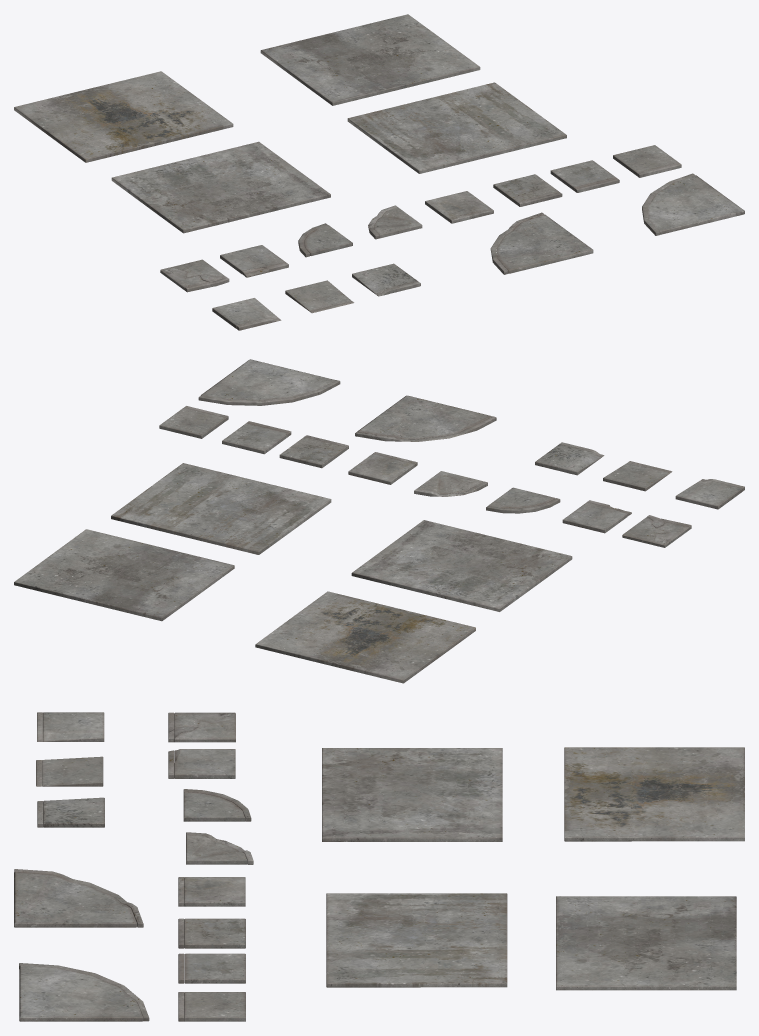
The model's file is sidewalks.glb.
3 views of the same model, one above another, from view 1: azimuth 30°, elevation 25°; view 2: azimuth 150°, elevation 25°; view 3: azimuth 270°, elevation 25° (orthographic). The views are drawn at different scales.
Parts seen in each view (by area): view 1: Sidewwalk_Long2, Sidewwalk_Long, Sidewwalk_Long1, Sidewwalk_Long3, SidewalkCornerLarge, SidewalkCornerLargeWalk, DrivewayMid1, SidewalkCracked, SidewalkDrivewayRight, SidewalkBroken, Sidewalk3, Sidewalk2 (+5 smaller); view 2: Sidewwalk_Long, Sidewwalk_Long1, Sidewwalk_Long3, Sidewwalk_Long2, SidewalkCornerLargeWalk, SidewalkCornerLarge, Sidewalk2, Sidewalk4, Sidewalk1, Sidewalk3, SidewalkDrivewayRight, SidewalkCracked (+7 smaller); view 3: Sidewwalk_Long, Sidewwalk_Long2, Sidewwalk_Long3, Sidewwalk_Long1, SidewalkCornerLarge, SidewalkCornerLargeWalk, Sidewalk2, SidewalkBroken, Sidewalk3, Sidewalk1, Sidewalk4, SidewalkDrivewayLeft (+7 smaller).
Boxes of the visible parts, box(x1,y1,x2,y2) form: Sidewwalk_Long2: box(260, 14, 480, 105); Sidewwalk_Long: box(347, 82, 566, 173); Sidewwalk_Long1: box(111, 141, 330, 233); Sidewwalk_Long3: box(14, 71, 233, 162); SidewalkCornerLarge: box(647, 175, 744, 234); SidewalkCornerLargeWalk: box(496, 214, 593, 273); DrivewayMid1: box(285, 280, 351, 311); SidewalkCracked: box(220, 245, 286, 275); SidewalkDrivewayRight: box(352, 263, 417, 294); SidewalkBroken: box(160, 259, 226, 290); Sidewalk3: box(550, 160, 616, 191); Sidewalk2: box(493, 174, 559, 204); Sidewwalk_Long: box(111, 463, 331, 554); Sidewwalk_Long1: box(351, 520, 572, 611); Sidewwalk_Long3: box(255, 591, 475, 683); Sidewwalk_Long2: box(14, 529, 234, 621); SidewalkCornerLargeWalk: box(357, 395, 491, 439); SidewalkCornerLarge: box(201, 359, 335, 400); Sidewalk2: box(279, 437, 346, 468); Sidewalk4: box(159, 407, 226, 438); Sidewalk1: box(348, 453, 415, 484); Sidewalk3: box(222, 423, 288, 454); SidewalkDrivewayRight: box(535, 444, 601, 475); SidewalkCracked: box(562, 502, 628, 533); Sidewwalk_Long: box(326, 893, 507, 987); Sidewwalk_Long2: box(556, 896, 736, 990); Sidewwalk_Long3: box(564, 747, 744, 841); Sidewwalk_Long1: box(322, 748, 502, 841); SidewalkCornerLarge: box(19, 965, 143, 1021); SidewalkCornerLargeWalk: box(14, 872, 136, 927); Sidewalk2: box(184, 918, 245, 948); SidewalkBroken: box(174, 712, 235, 742); Sidewalk3: box(184, 953, 245, 983); Sidewalk1: box(184, 877, 245, 906); Sidewalk4: box(184, 992, 245, 1021); SidewalkDrivewayLeft: box(43, 712, 104, 741).
Bounding box in the file's own units: 23.62 × 0.2148 × 23.88.
Materials: 1 (1 with a texture image).
